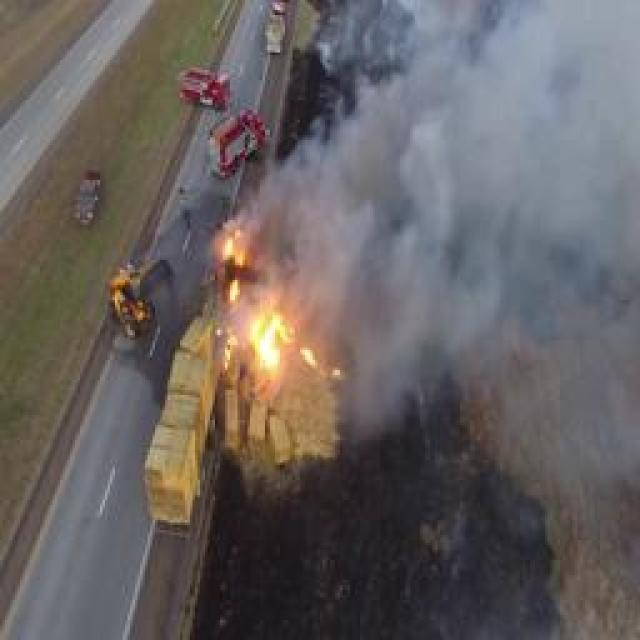Fire: (212, 222, 320, 374)
Smoke: (318, 14, 640, 354)
